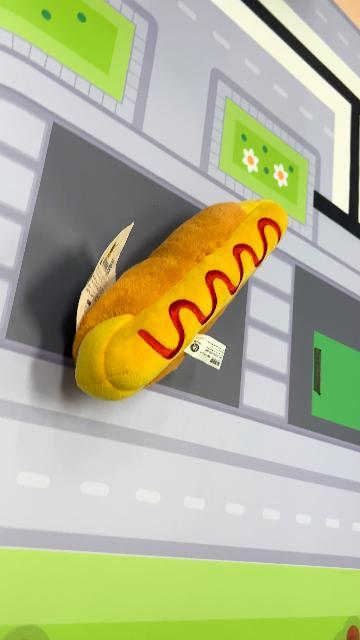hotdog: (72, 196, 290, 404), (136, 215, 283, 362)
